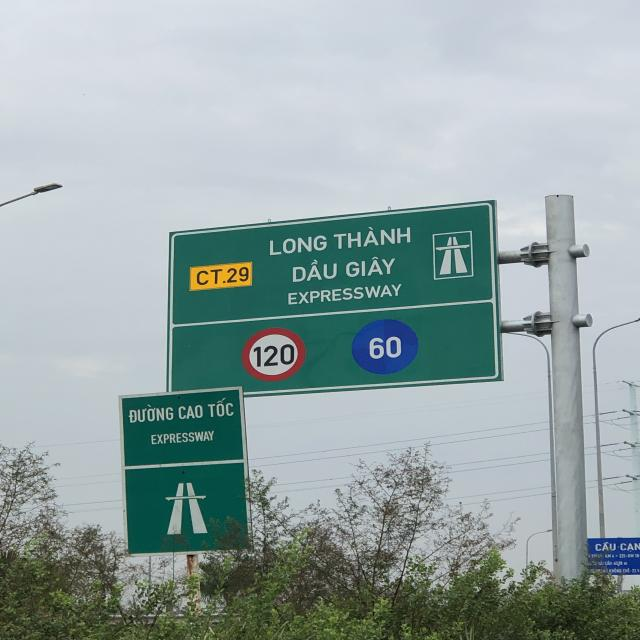Bien bao toc do toi thieu cho phep: (349, 314, 422, 379)
